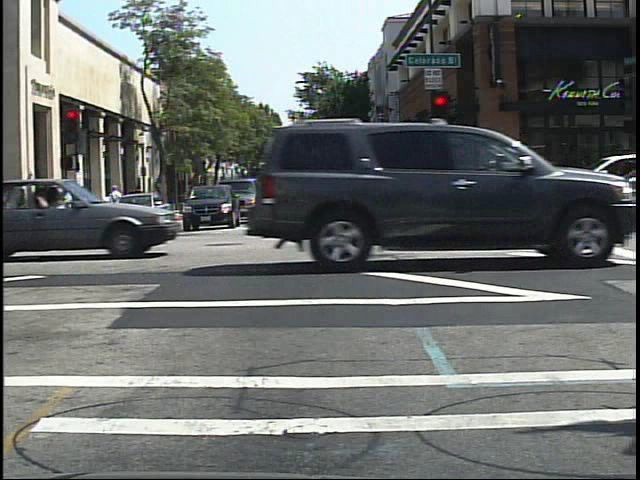person: (106, 181, 126, 228)
